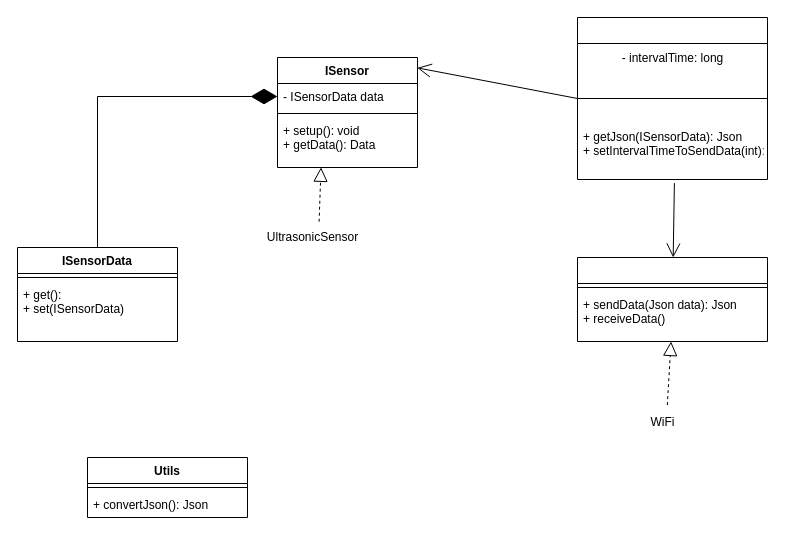
This 807x538 diagram has some shape labels left out. The shapes that lost their labels are listed below. From the top down, each one's box as (x1, y1, x2, y2) in pixels, then its label:
(576, 16, 768, 180): Board
(576, 256, 768, 342): ICommunication
